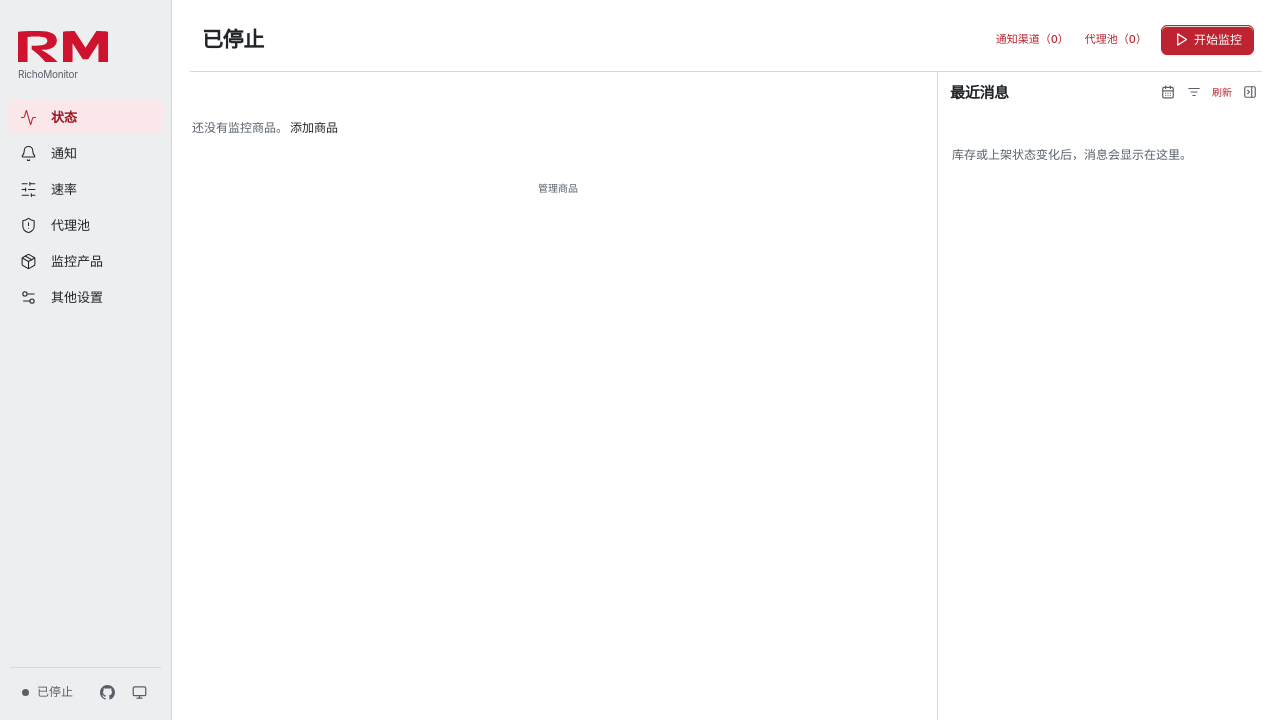
Test: 桌面主流程 › 尚未决定通知权限可申请，拒绝后引导系统设置并停止重复申请
Expected: the button "开始监控" is shown, x1=1161 y1=24 x2=1254 y2=54
Step 1. Click the button "通知" → (86, 153), box x1=8 y1=136 x2=163 y2=170
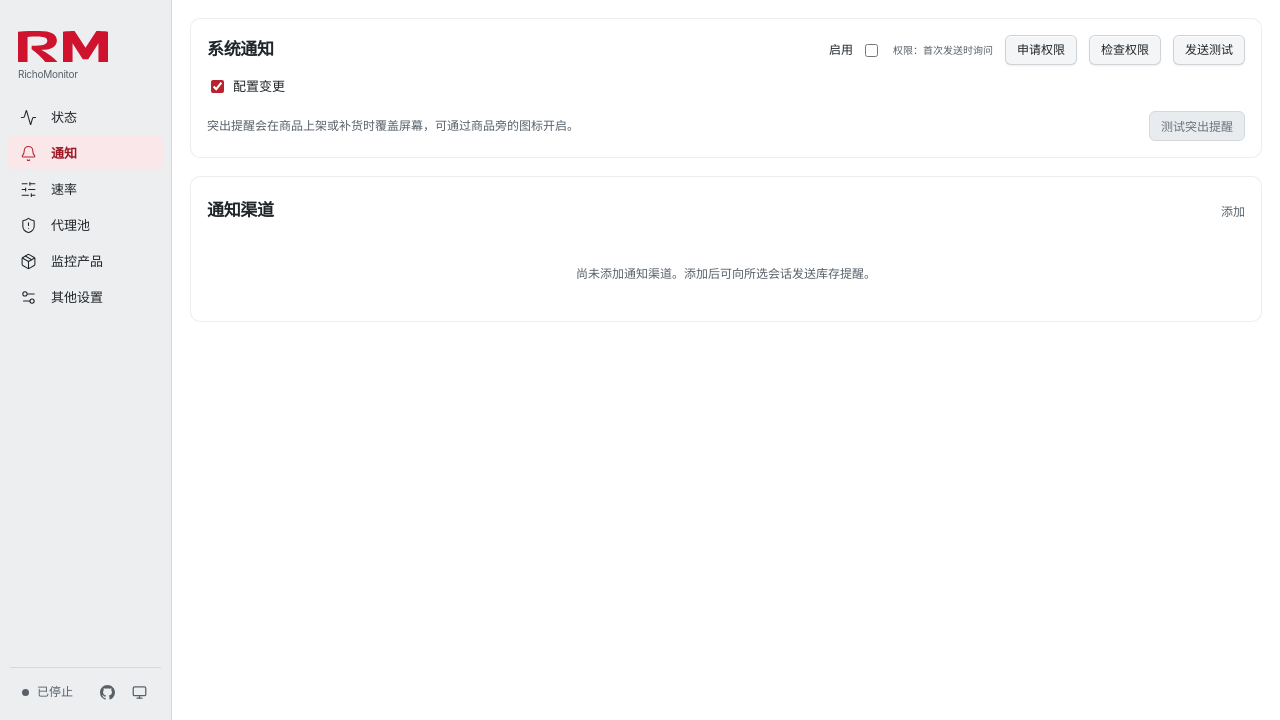
Step 2. Click the button "申请权限" → (1041, 50), box x1=1005 y1=35 x2=1077 y2=65
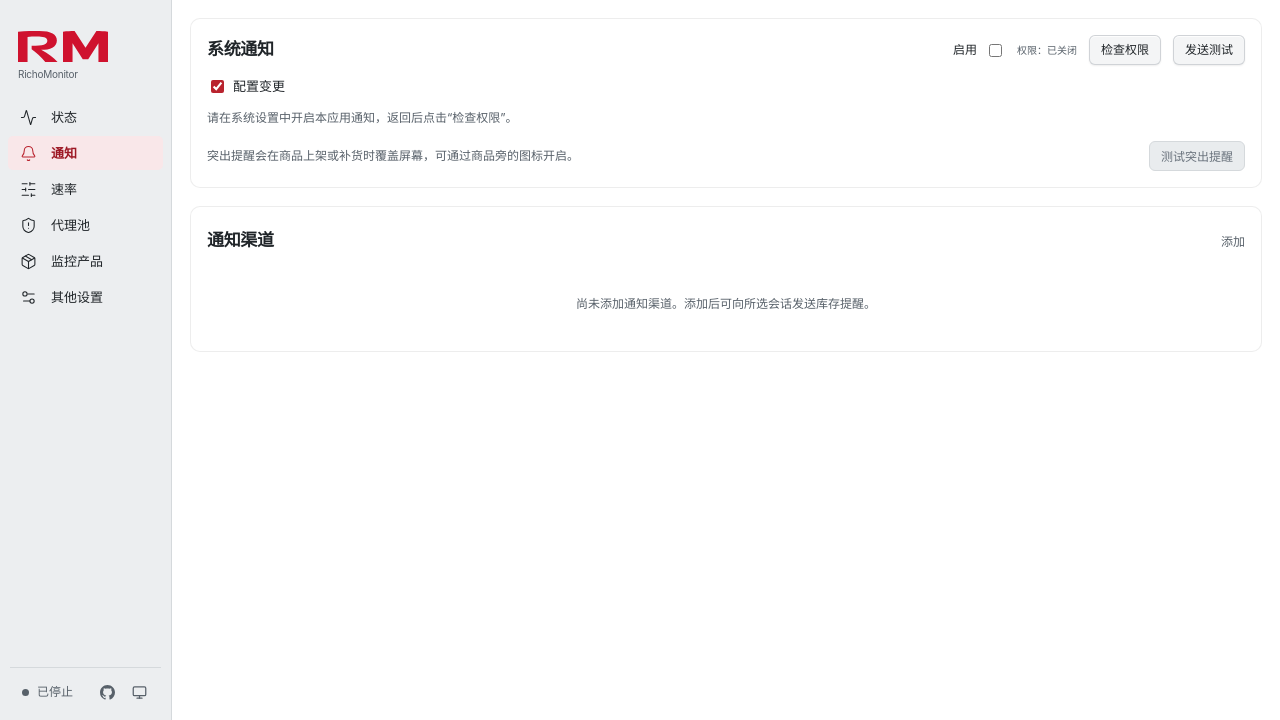
Result: the text "权限：已关闭" is shown at x1=1017 y1=43 x2=1077 y2=57
Result: the button "申请权限" is gone
Result: the text "请在系统设置中开启本应用通知，返回后点击“检查权限”。" is shown at x1=207 y1=110 x2=518 y2=125
